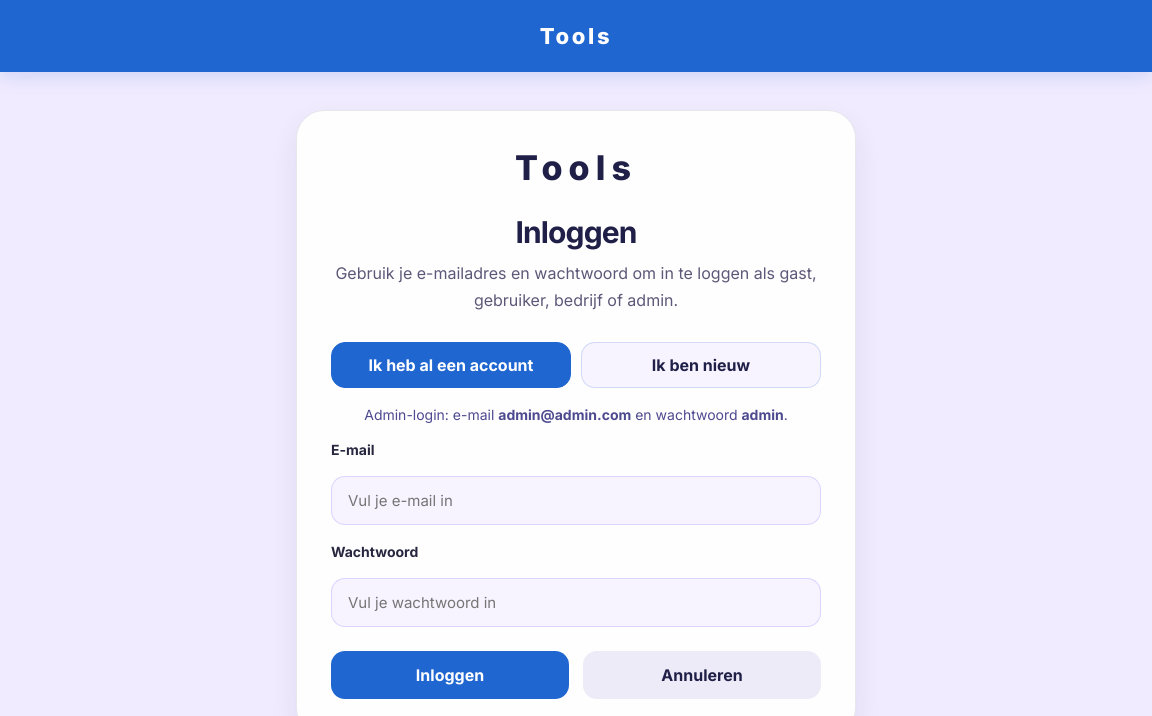
Login component › shows a validation error when login fields are missing
Step 1. Click the button "Inloggen" → (450, 675), box [331,651,569,699]
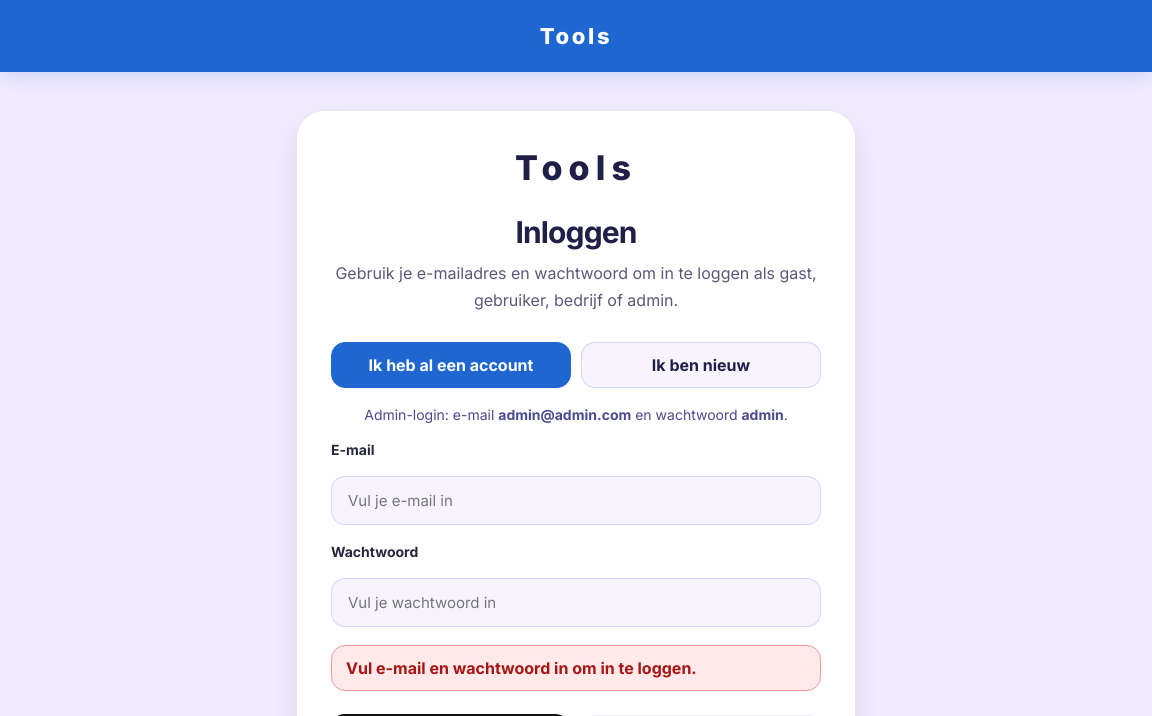
Check: the text "Vul e-mail en wachtwoord in om in te loggen." is shown, box [331,645,821,691]
